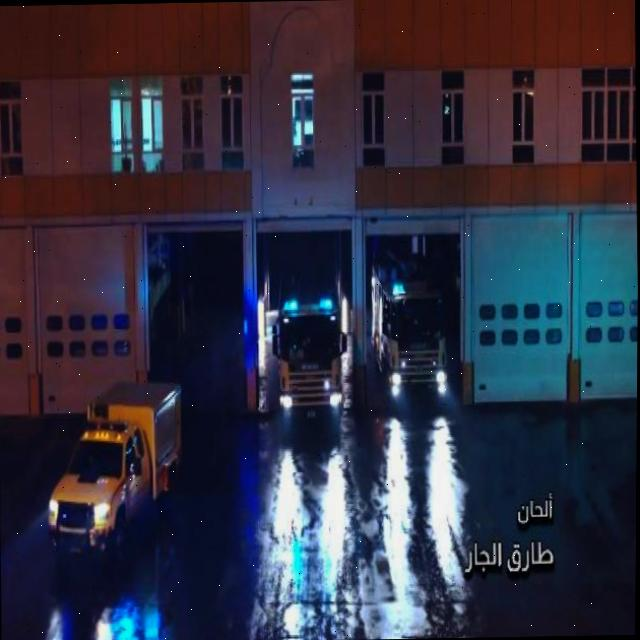emergency: (40, 366, 189, 572), (267, 250, 354, 442), (368, 242, 453, 416)
